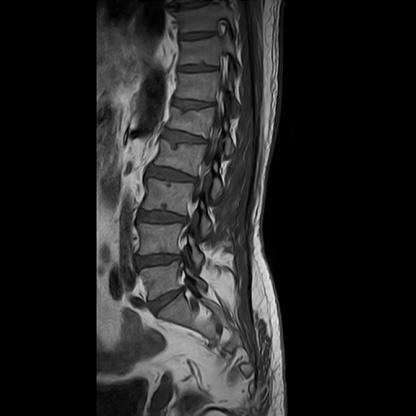Annular Disc Relaxationrotation: (157, 130, 210, 150), (147, 168, 196, 188)
Disc Bulgerotation: (134, 251, 182, 274), (148, 289, 193, 313)
